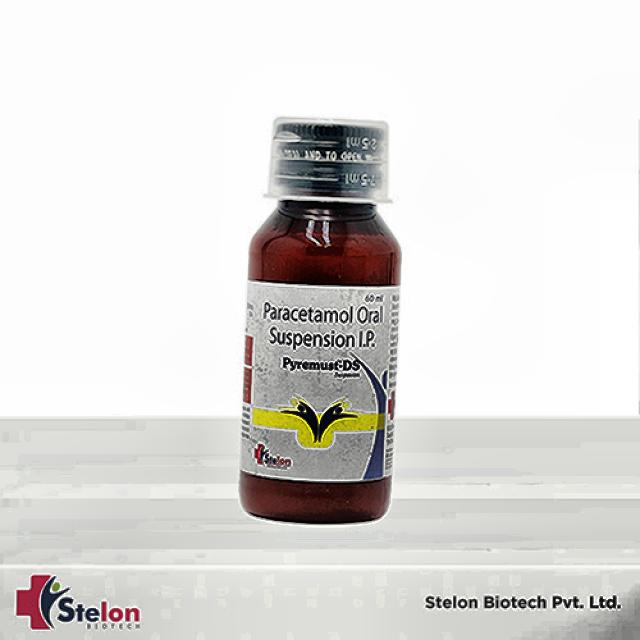Paracetamol: (246, 279, 399, 381)
